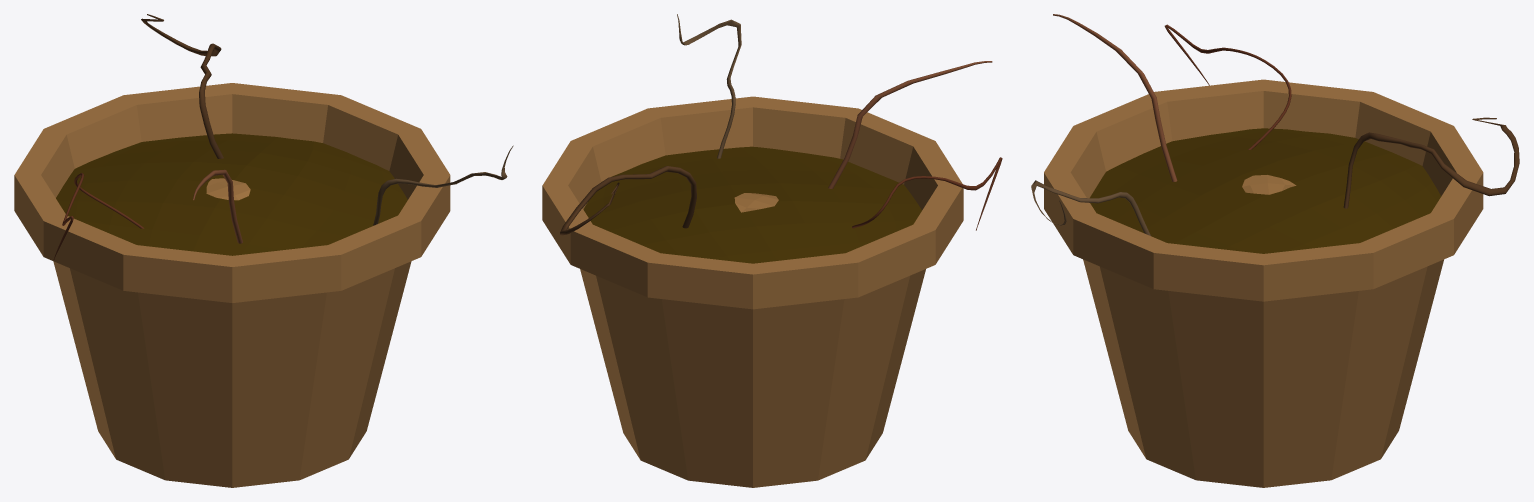
File: Flower1_Frame4.fbx
3 views of the same model, side by side, from view 1: azimuth 30°, elevation 25°; view 2: azimuth 150°, elevation 25°; view 3: azimuth 270°, elevation 25° (orthographic). The views are drawn at different scales.
Visible parts, largest first — view 1: Cylinder, Circle, BézierCurve.002, BézierCurve.001, Circle.001, BézierCurve.003, BézierCurve; view 2: Cylinder, Circle, BézierCurve.002, BézierCurve.003, BézierCurve.001, BézierCurve, Circle.001; view 3: Cylinder, Circle, BézierCurve.002, BézierCurve.003, BézierCurve, BézierCurve.001, Circle.001.
Boxes of the visible parts, x1,y1,x2,y2 form: Cylinder: (14, 83, 450, 487); Circle: (56, 133, 407, 255); BézierCurve.002: (141, 14, 223, 158); BézierCurve.001: (373, 145, 513, 225); Circle.001: (206, 178, 250, 200); BézierCurve.003: (193, 169, 242, 243); BézierCurve: (53, 173, 144, 259); Cylinder: (542, 96, 963, 487); Circle: (583, 146, 921, 263); BézierCurve.002: (560, 166, 696, 235); BézierCurve.003: (828, 61, 992, 188); BézierCurve.001: (677, 14, 741, 158); BézierCurve: (852, 157, 1002, 230); Circle.001: (734, 193, 778, 212); Cylinder: (1044, 79, 1483, 487); Circle: (1090, 128, 1441, 253); BézierCurve.002: (1343, 117, 1519, 208); BézierCurve.003: (1053, 14, 1177, 181); BézierCurve: (1164, 24, 1291, 149); BézierCurve.001: (1031, 180, 1150, 235); Circle.001: (1242, 175, 1296, 194).
Bounding box in the file's own units: 2.38 × 1.97 × 2.51.
